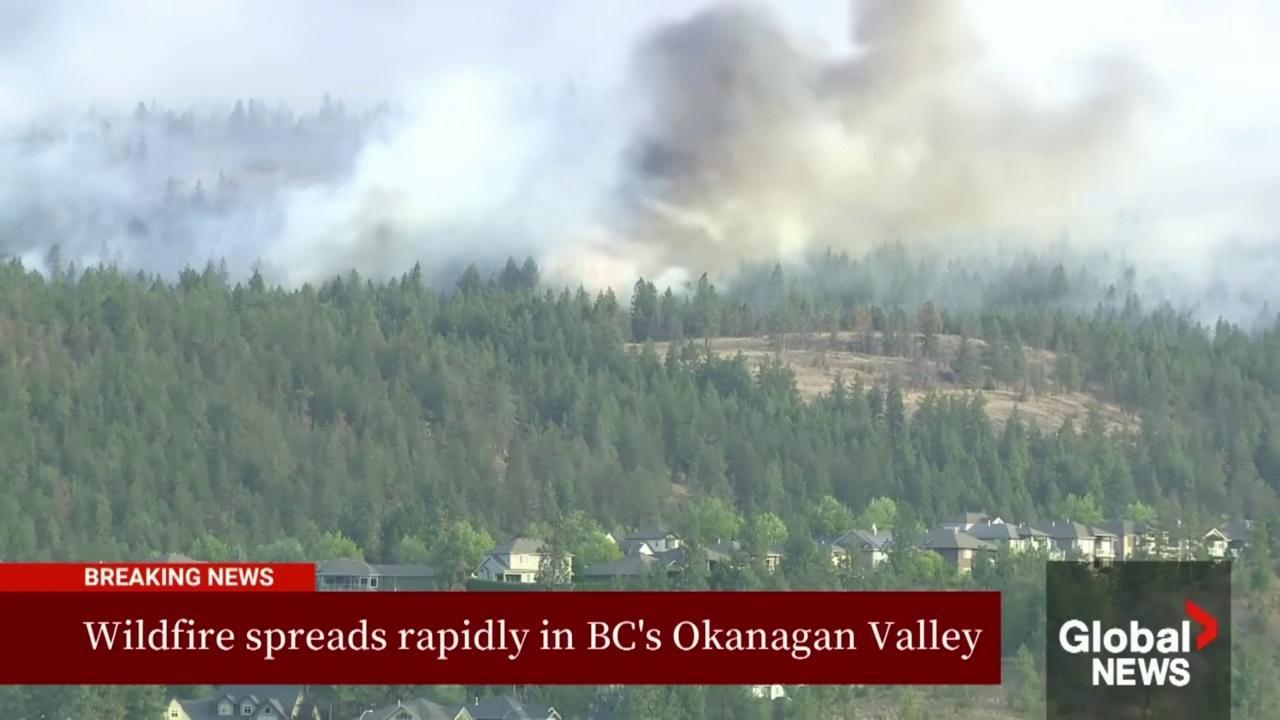smoke: (0, 0, 1280, 353)
